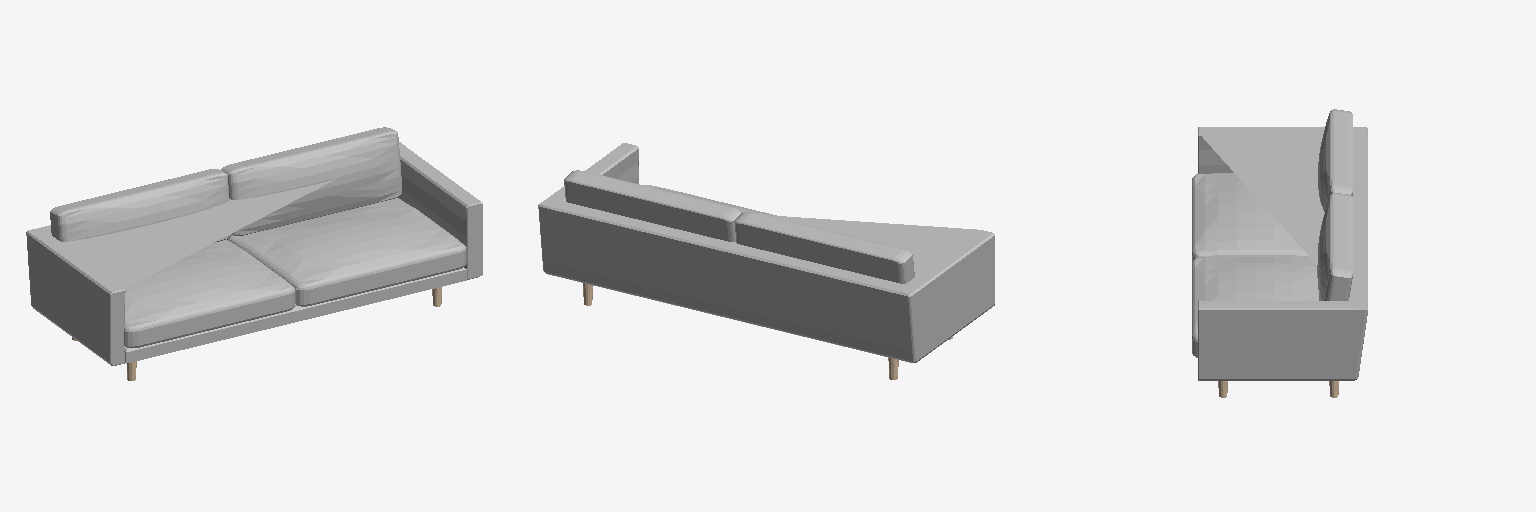
3 views of the same model, side by side, from view 1: azimuth 30°, elevation 25°; view 2: azimuth 150°, elevation 25°; view 3: azimuth 270°, elevation 25° (orthographic).
Parts seen in each view (by area): view 1: Group#9-Entity266726, Group#11-Entity266728, Group#12-Entity262976, Group#14-Entity266730, Group#13-Entity266729; view 2: Group#9-Entity266726, Group#13-Entity266729, Group#14-Entity266730; view 3: Group#9-Entity266726, Group#12-Entity262976, Group#11-Entity266728, Group#14-Entity266730, Group#13-Entity266729.
Boxes of the visible parts, <box> form: Group#9-Entity266726: <box>26,142,482,365</box>; Group#11-Entity266728: <box>227,198,466,306</box>; Group#12-Entity262976: <box>124,239,295,347</box>; Group#14-Entity266730: <box>221,127,401,235</box>; Group#13-Entity266729: <box>50,169,231,242</box>; Group#9-Entity266726: <box>538,143,994,362</box>; Group#13-Entity266729: <box>734,212,914,283</box>; Group#14-Entity266730: <box>564,170,741,241</box>; Group#9-Entity266726: <box>1198,127,1367,380</box>; Group#12-Entity262976: <box>1192,173,1309,261</box>; Group#11-Entity266728: <box>1192,257,1318,357</box>; Group#14-Entity266730: <box>1317,193,1352,300</box>; Group#13-Entity266729: <box>1318,109,1352,211</box>.
Size of the model in its own units: 86.81 by 29.12 by 35.63.
2 materials, 1 textured.